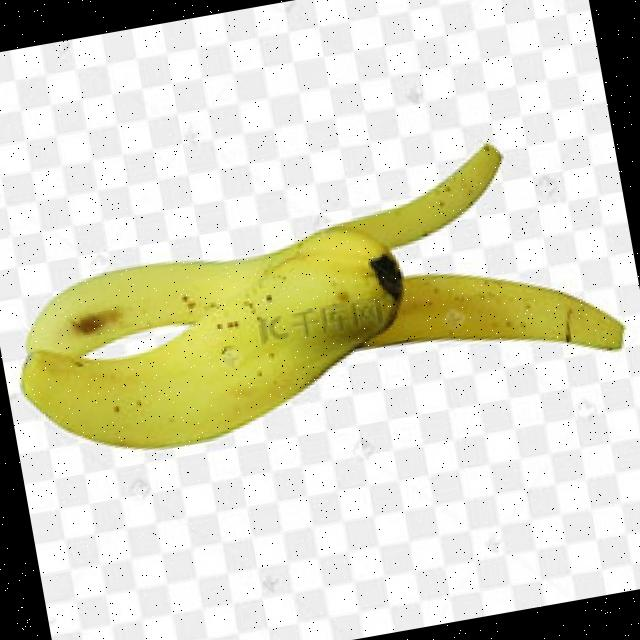banana-peel: (0, 122, 631, 471), (344, 238, 628, 394)
